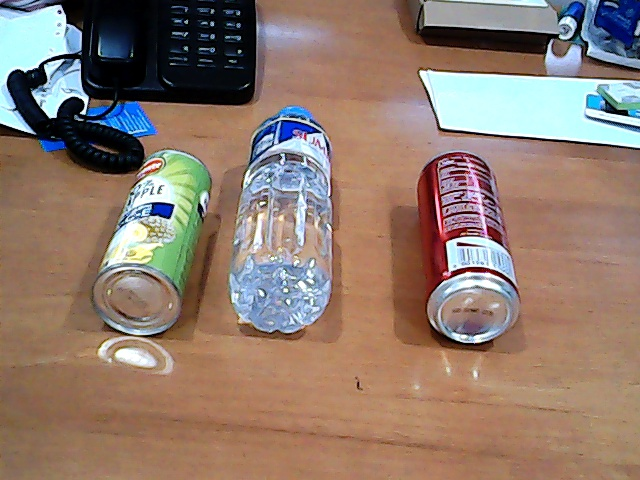Cola: (407, 143, 535, 352)
Pine Juice: (89, 141, 215, 351)
Summit Water: (229, 87, 352, 349)
